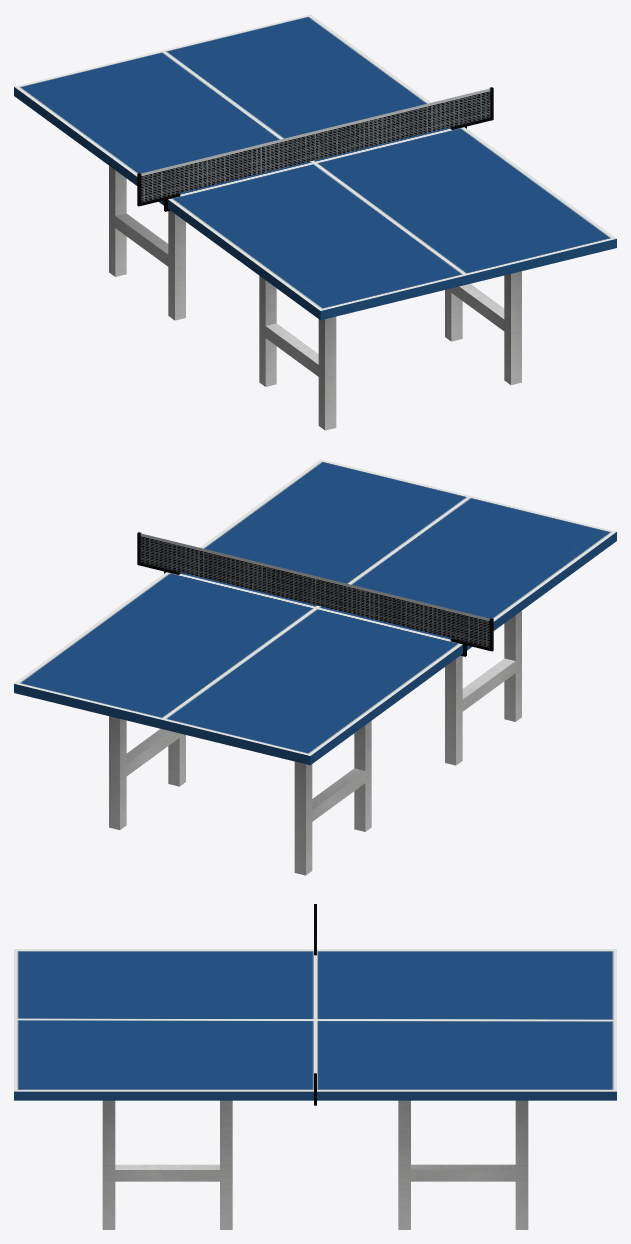
File: tabletenis.fbx
The picture shows the model from 3 angles, top to bottom: view 1: azimuth 30°, elevation 25°; view 2: azimuth 150°, elevation 25°; view 3: azimuth 270°, elevation 25°; orthographic projection.
Parts seen in each view (by area): view 1: TableTenis; view 2: TableTenis; view 3: TableTenis.
Boxes of the visible parts, x1=… form: TableTenis: x1=14, y1=14, x2=616, y2=430; TableTenis: x1=14, y1=459, x2=616, y2=875; TableTenis: x1=14, y1=904, x2=616, y2=1229.
Bounding box in the file's own units: 925 × 489 × 1384.
